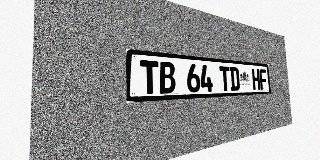4: (200, 64, 213, 92)
6: (186, 63, 201, 93)
B: (159, 61, 176, 94)
D: (229, 67, 240, 91)
F: (259, 69, 267, 90)
H: (252, 68, 260, 90)
T: (140, 60, 159, 94), (219, 66, 230, 91)
